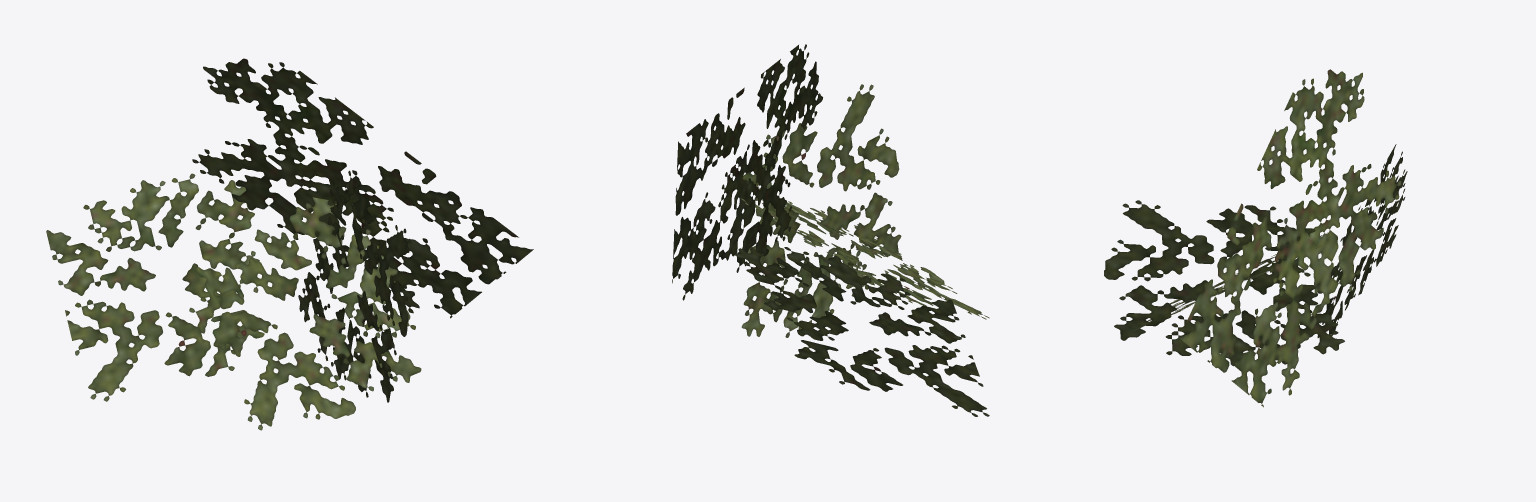
The model's file is pine_leaves_brown_2.obj.
3 views of the same model, side by side, from view 1: azimuth 30°, elevation 25°; view 2: azimuth 150°, elevation 25°; view 3: azimuth 270°, elevation 25° (orthographic). The views are drawn at different scales.
Visible parts, largest first — view 1: plane; view 2: plane; view 3: plane.
Boxes of the visible parts, <box> form: plane: <box>46,58,533,430</box>; plane: <box>672,44,989,416</box>; plane: <box>1104,69,1407,407</box>.
Bounding box in the file's own units: 1.85 × 1.93 × 1.82.
